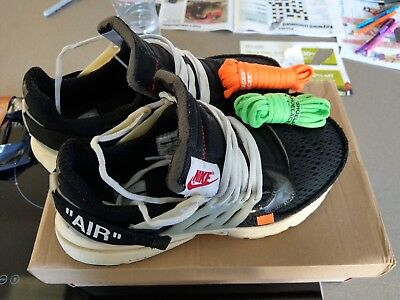Nike x OFF--WHITE Air Presto OG: (48, 97, 353, 267), (17, 5, 281, 184)
